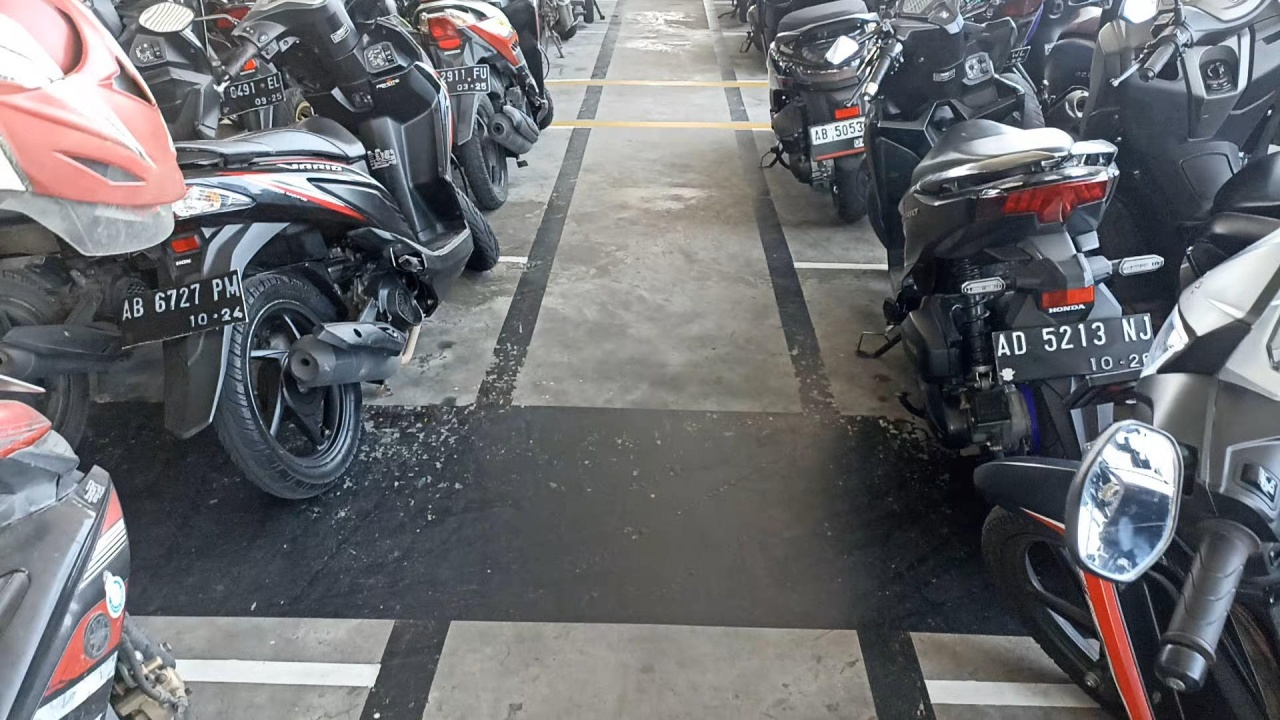plate: (993, 312, 1159, 385), (119, 268, 248, 348)
